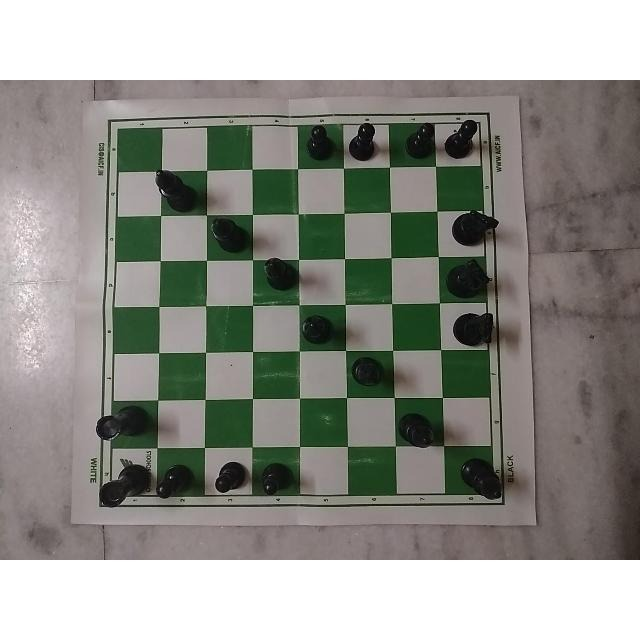black-bishop: (457, 452, 511, 508), (398, 411, 446, 459), (155, 164, 198, 214), (208, 216, 253, 256), (300, 312, 341, 347), (261, 256, 295, 298), (354, 352, 386, 391)
black-knight: (448, 203, 504, 251), (451, 304, 496, 351), (450, 254, 494, 297)
black-pawn: (441, 114, 484, 167), (208, 452, 248, 503), (349, 111, 383, 167), (155, 456, 198, 500), (304, 119, 338, 169), (260, 447, 292, 499), (403, 117, 439, 161)
black-rook: (94, 456, 150, 519), (90, 403, 152, 448)
